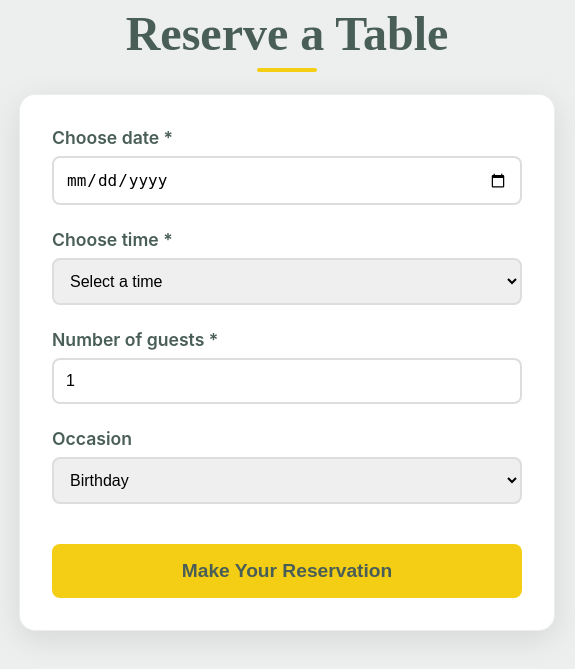
Test: BookingForm › displays validation errors for empty required fields
The width and height of the screenshot is (575, 669).
Click the button with aria-label "submit reservation request" at (287, 571), box [52,544,522,598]
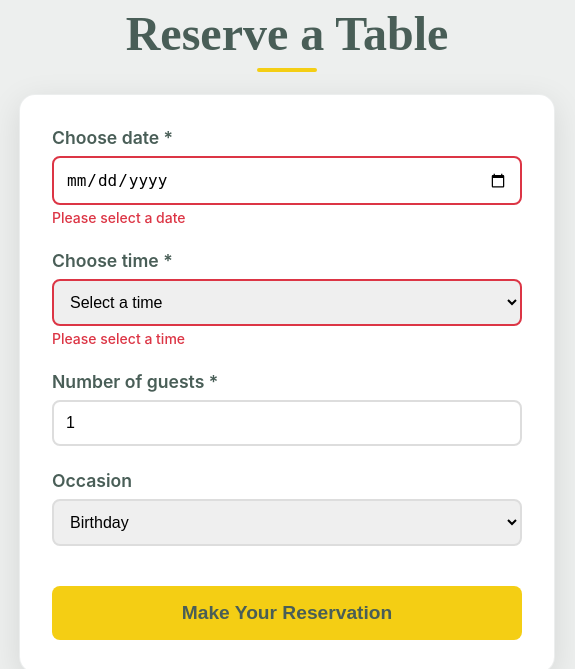
Check: the text "Please select a date" is shown, box [52,209,186,226]
Check: the text "Please select a time" is shown, box [52,330,185,347]
